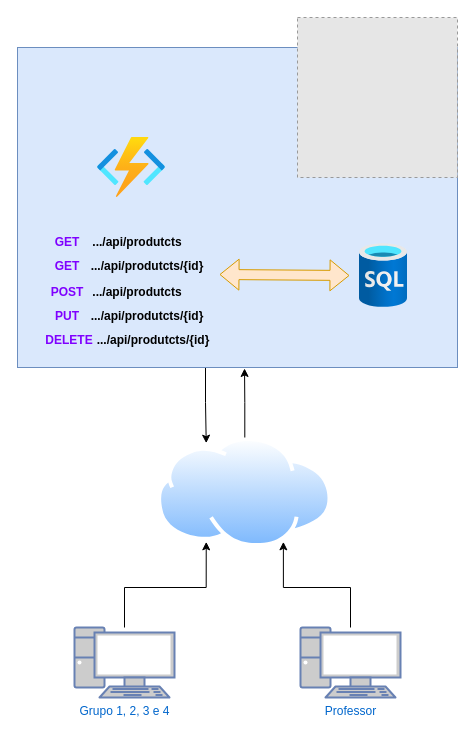
This 475x736 diagram has some shape labels left out. Grey dashed boxes stand in for pictures. Here are the shapes that lost their labels. From the top down, the box of each, then its label:
(97, 137, 165, 197): Products API
(157, 437, 332, 547): Internet
